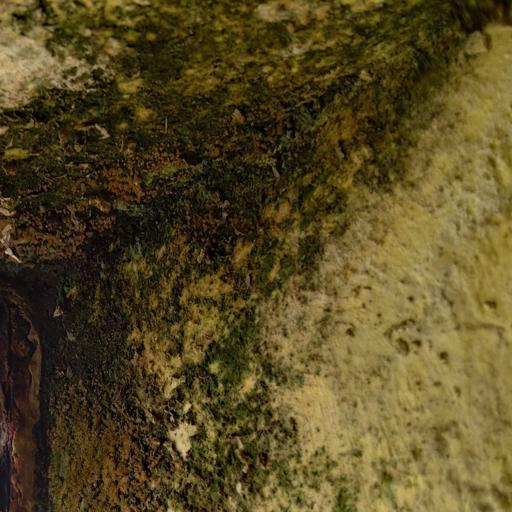algae: (6, 7, 460, 496)
